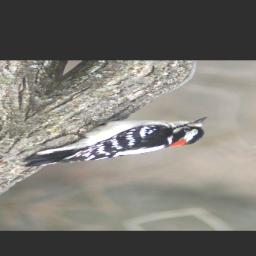Woodpecker: (17, 98, 217, 189)
